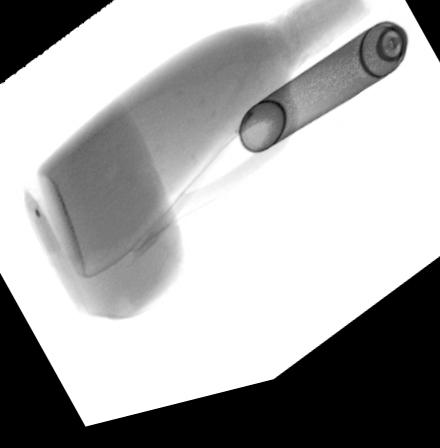Sprayer: (236, 27, 427, 167)
